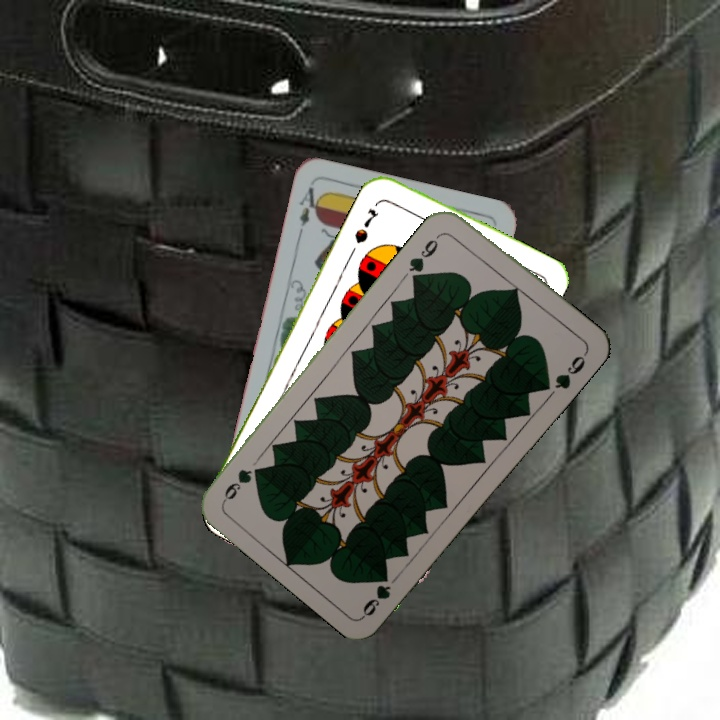EA: (294, 183, 325, 240)
G9: (404, 229, 445, 282), (358, 570, 394, 619)
S7: (350, 204, 381, 246)
